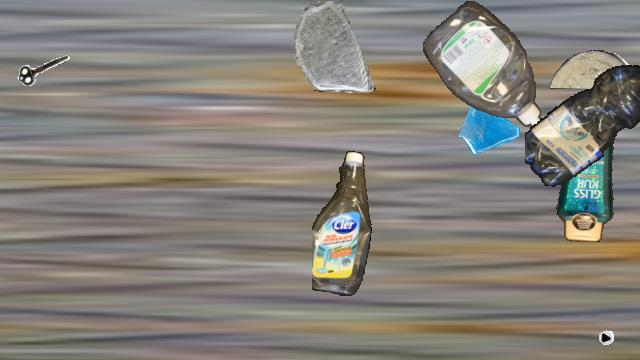glass: (289, 1, 381, 93), (457, 94, 523, 160)
metal: (561, 290, 621, 350), (15, 42, 73, 100)
plastic: (525, 50, 640, 190), (423, 1, 543, 131), (552, 99, 624, 241), (312, 151, 372, 295)
wood: (550, 50, 634, 88)
